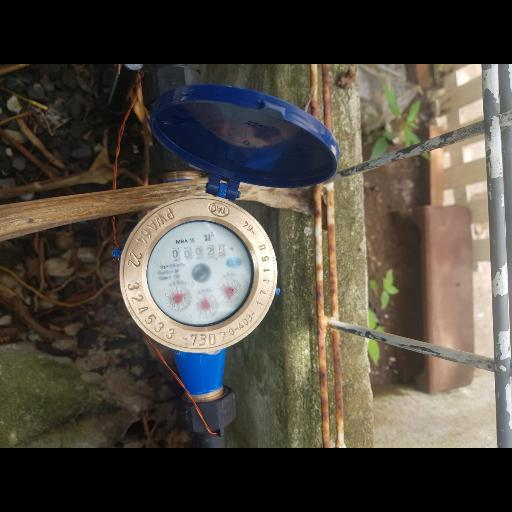0: (194, 245, 204, 260), (183, 246, 193, 260), (172, 247, 181, 261)
2: (205, 244, 215, 258)
7: (216, 242, 227, 258)
border_water_meter_number: (168, 239, 228, 265)
